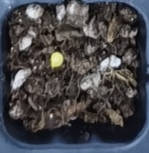chilli seed: (50, 52, 63, 69)
